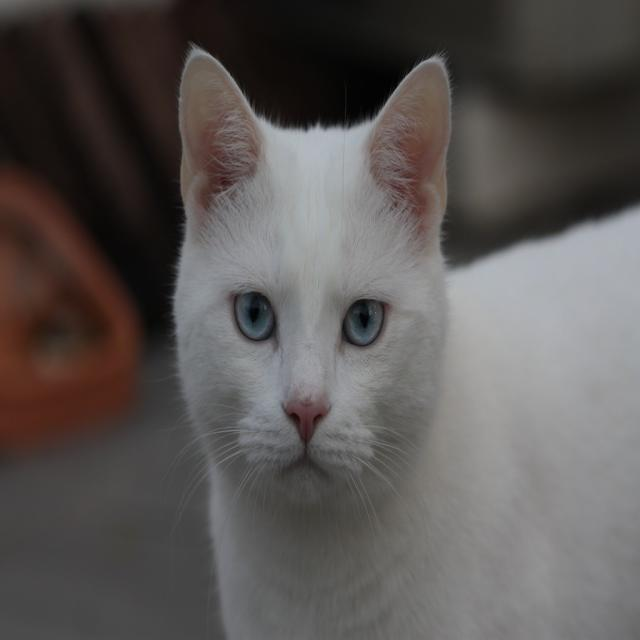Cat: (143, 36, 639, 639)
